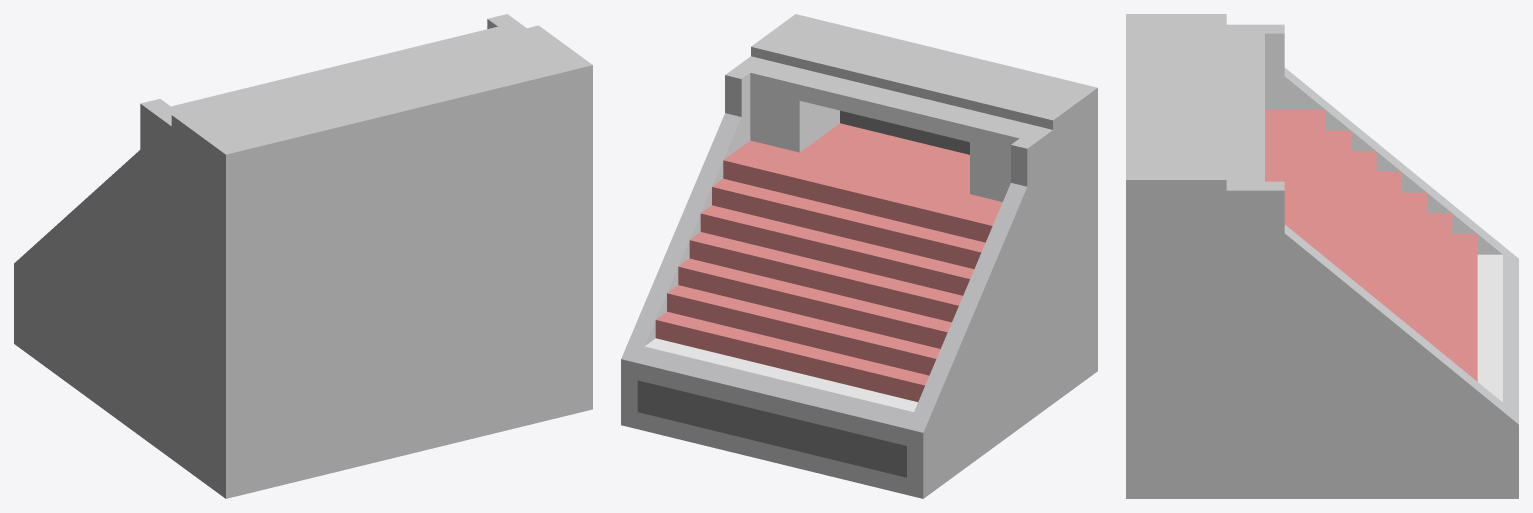
Rendered from grand-stand.glb.
3 views of the same model, side by side, from view 1: azimuth 30°, elevation 25°; view 2: azimuth 150°, elevation 25°; view 3: azimuth 270°, elevation 25° (orthographic). The views are drawn at different scales.
Parts seen in each view (by area): view 1: grandStand; view 2: grandStand; view 3: grandStand.
Part boxes in pixels (x1=…): grandStand: x1=14, y1=14, x2=592, y2=498; grandStand: x1=621, y1=14, x2=1097, y2=498; grandStand: x1=1126, y1=14, x2=1518, y2=498.
Bounding box in the file's own units: 6 × 5.38 × 6.
